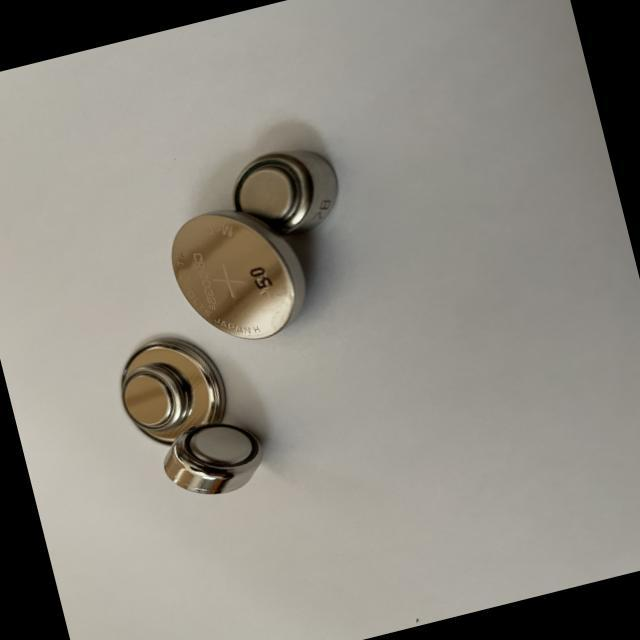COIN: (158, 188, 320, 356), (108, 324, 235, 452), (222, 136, 346, 244), (152, 407, 274, 506), (112, 355, 192, 436)
